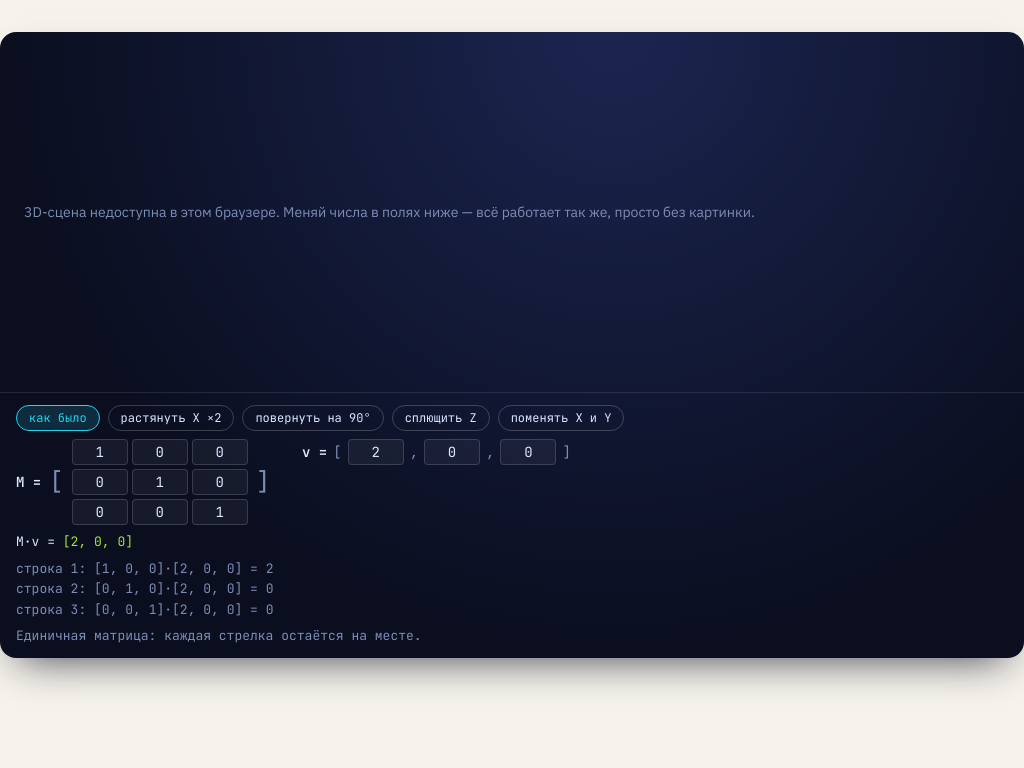
Scenario: MatrixTransform3D: M·v outside the grid › suggests zooming out once a coordinate of M·v leaves the ±3 grid
This screenshot has width=1024, height=768.
Expected: the text "3D-сцена недоступна" is shown, [24,203,755,221]
Expected: the text "M·v вышла за край сетки" is not shown
Replace the text in the field named "M, строка 1, столбец 1" with "3" at (100, 452), box [72,439,128,465]
Then press Enter
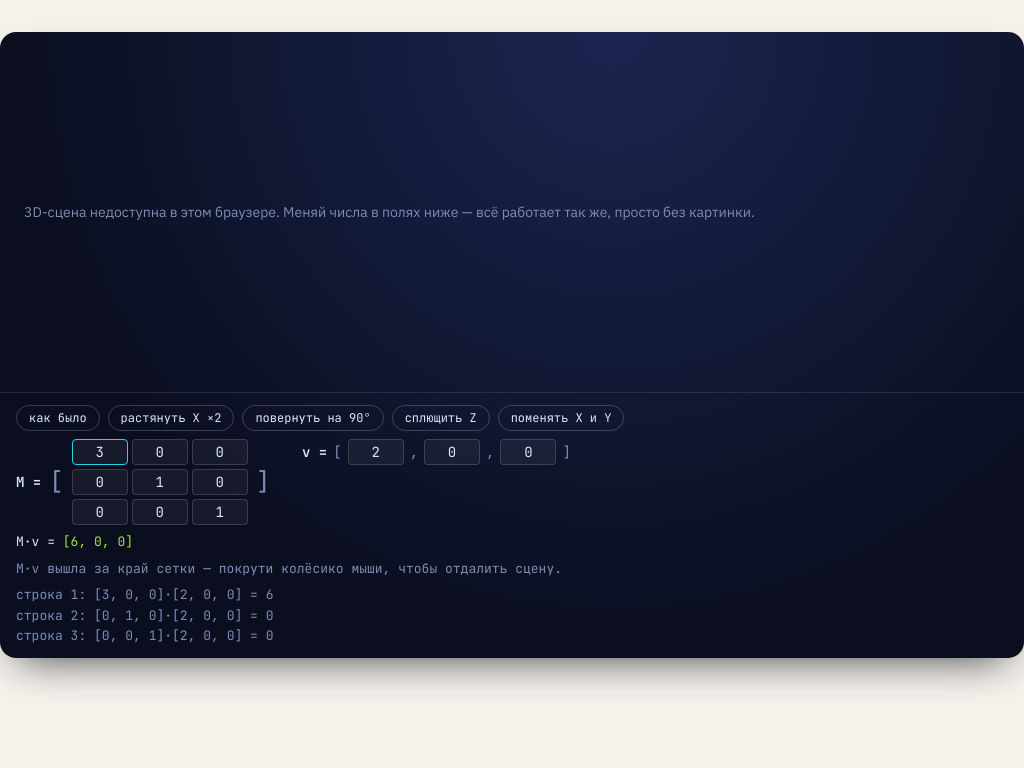
Expected: the text "M·v = [6, 0, 0]" is shown, [16,533,133,550]
Expected: the text "M·v вышла за край сетки" reads "M·v вышла за край сетки — покрути колёсико мыши, чтобы отдалить сцену.", [16,560,562,577]
Replace the text in the field named "M, строка 1, столбец 1" with "1,5" at (100, 452), box [72,439,128,465]
Then press Enter
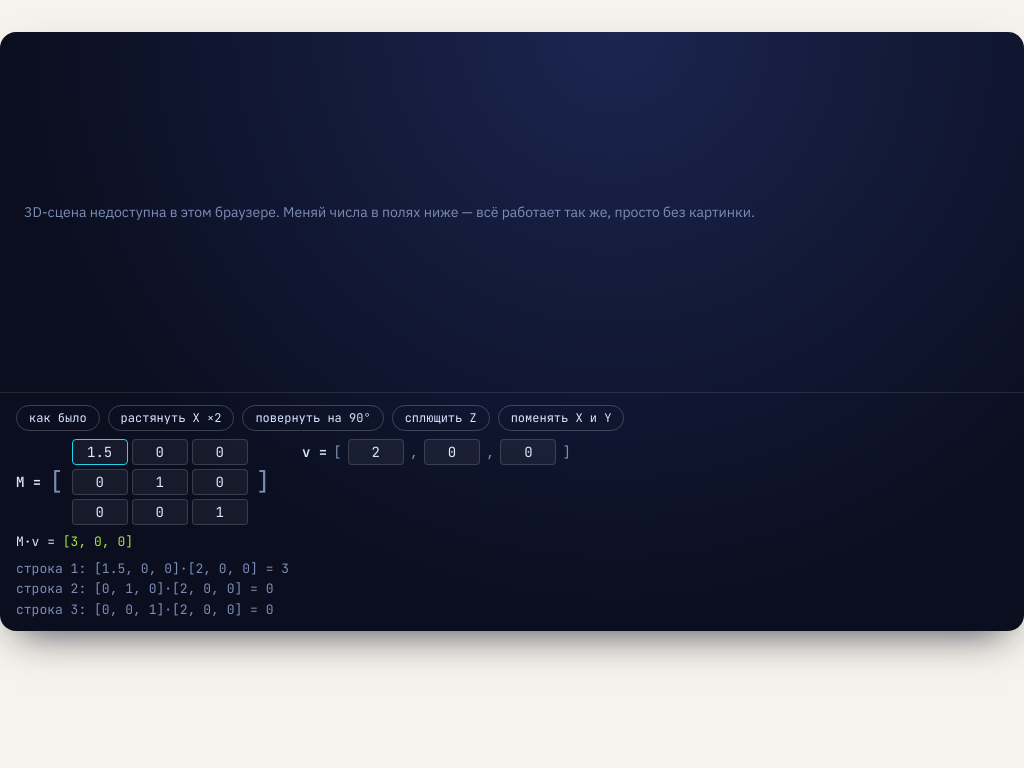
Expected: the text "M·v вышла за край сетки" is gone
